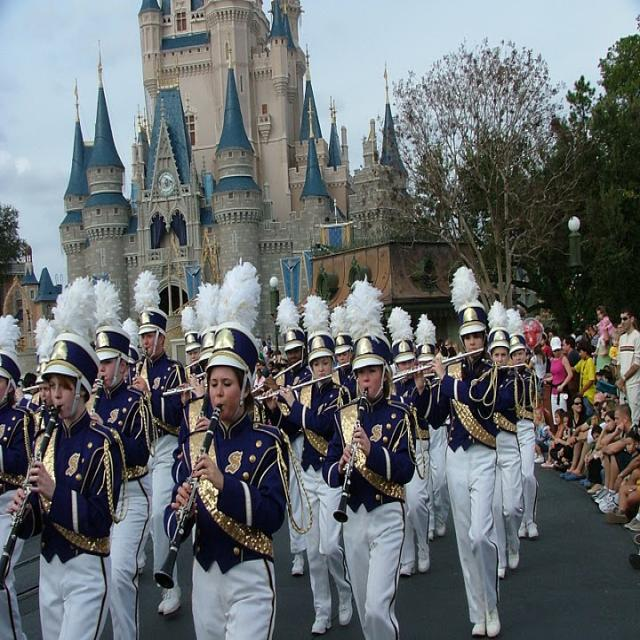clarinet: (153, 403, 226, 594), (0, 406, 64, 587), (334, 386, 373, 526), (90, 373, 106, 422), (136, 348, 146, 387)
